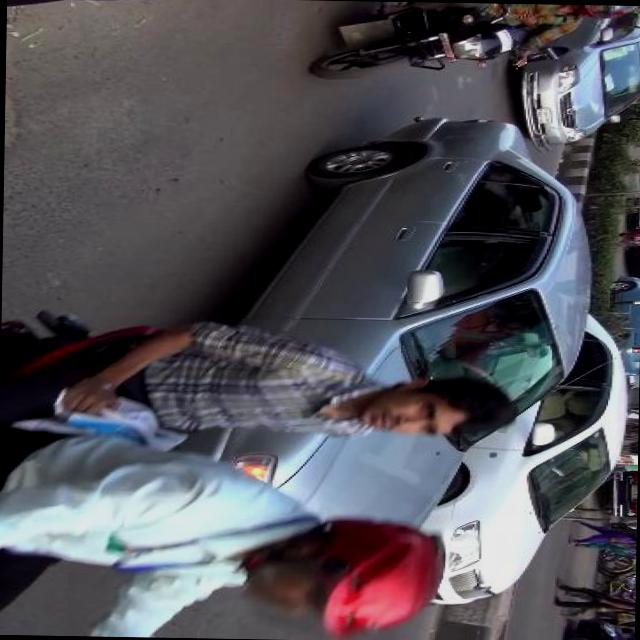car: (148, 108, 602, 605), (429, 306, 638, 616), (511, 43, 640, 156)
motorcycle: (297, 1, 640, 89)
